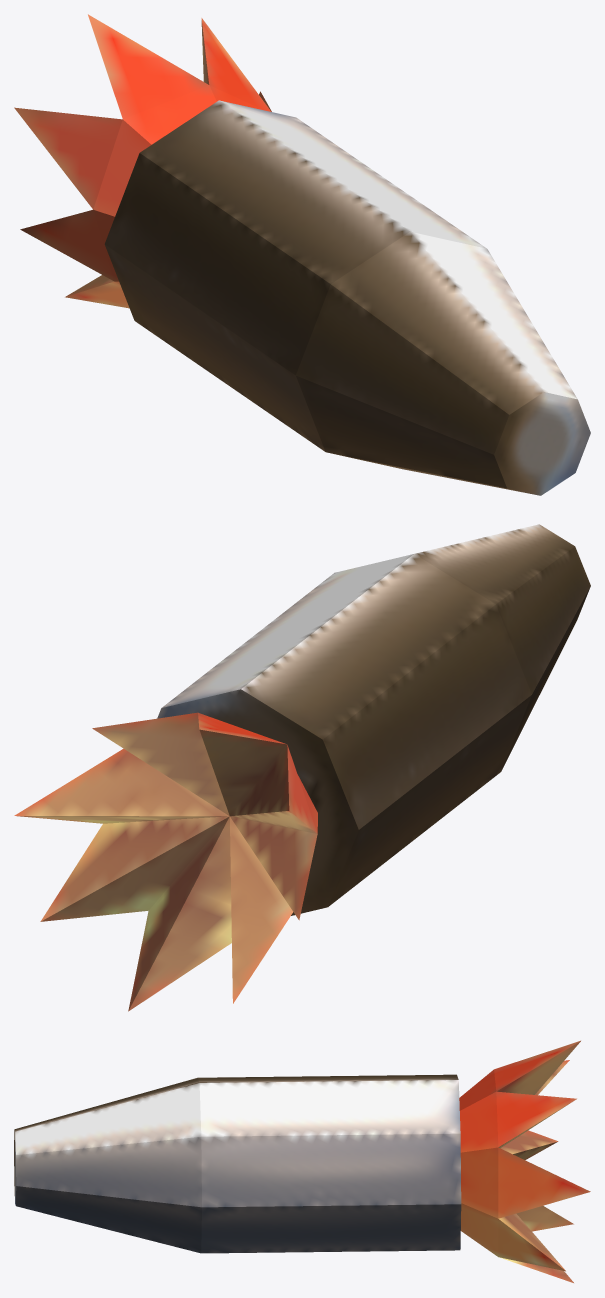
The picture shows the model from 3 angles, top to bottom: view 1: azimuth 30°, elevation 25°; view 2: azimuth 150°, elevation 25°; view 3: azimuth 270°, elevation 25°; orthographic projection. The views are drawn at different scales.
Visible parts, largest first — view 1: Bala_Cylinder.003, Fogonazo_Cylinder.004; view 2: Bala_Cylinder.003, Fogonazo_Cylinder.004; view 3: Bala_Cylinder.003, Fogonazo_Cylinder.004.
Part boxes in pixels (box(x1,y1,x2,y2)): Bala_Cylinder.003: box(104, 100, 590, 495); Fogonazo_Cylinder.004: box(14, 14, 271, 308); Bala_Cylinder.003: box(157, 524, 590, 915); Fogonazo_Cylinder.004: box(14, 712, 317, 1011); Bala_Cylinder.003: box(14, 1074, 461, 1253); Fogonazo_Cylinder.004: box(459, 1040, 590, 1282).
Size of what is drawn, in the model's own units: 0.3275 by 0.3627 by 0.875.
